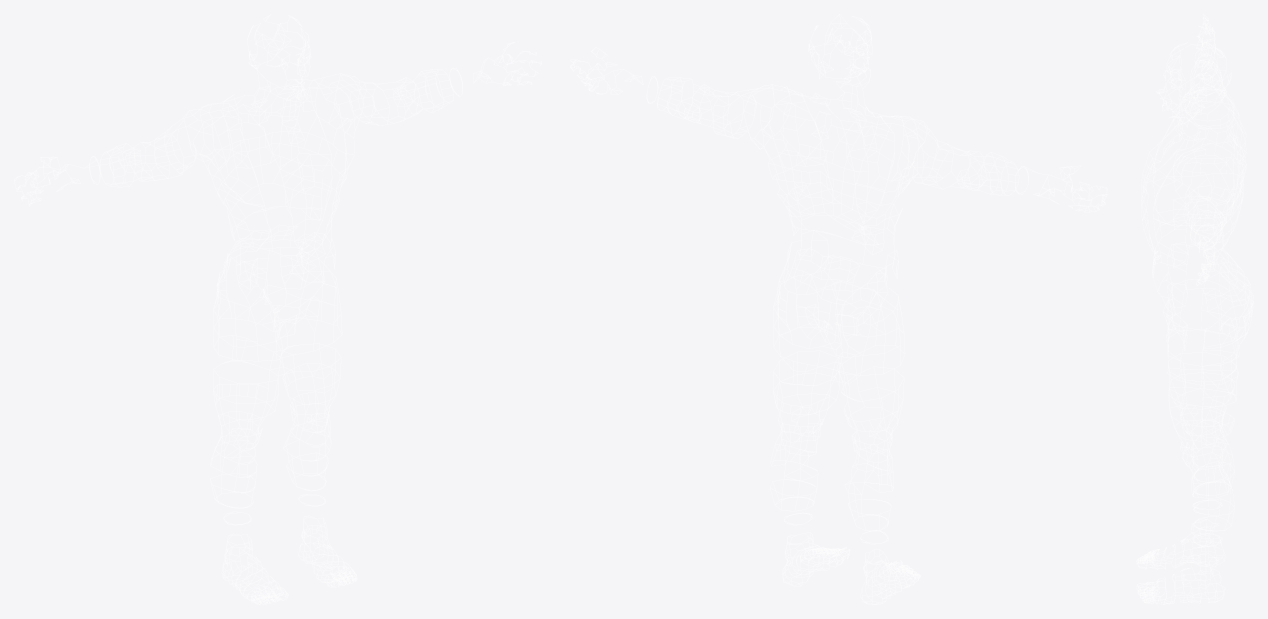
File: plexus_lines.glb
The picture shows the model from 3 angles, left to right: view 1: azimuth 30°, elevation 25°; view 2: azimuth 150°, elevation 25°; view 3: azimuth 270°, elevation 25°; orthographic projection. The views are drawn at different scales.
Size of the model in its own units: 1.36 by 1.38 by 0.2736.
